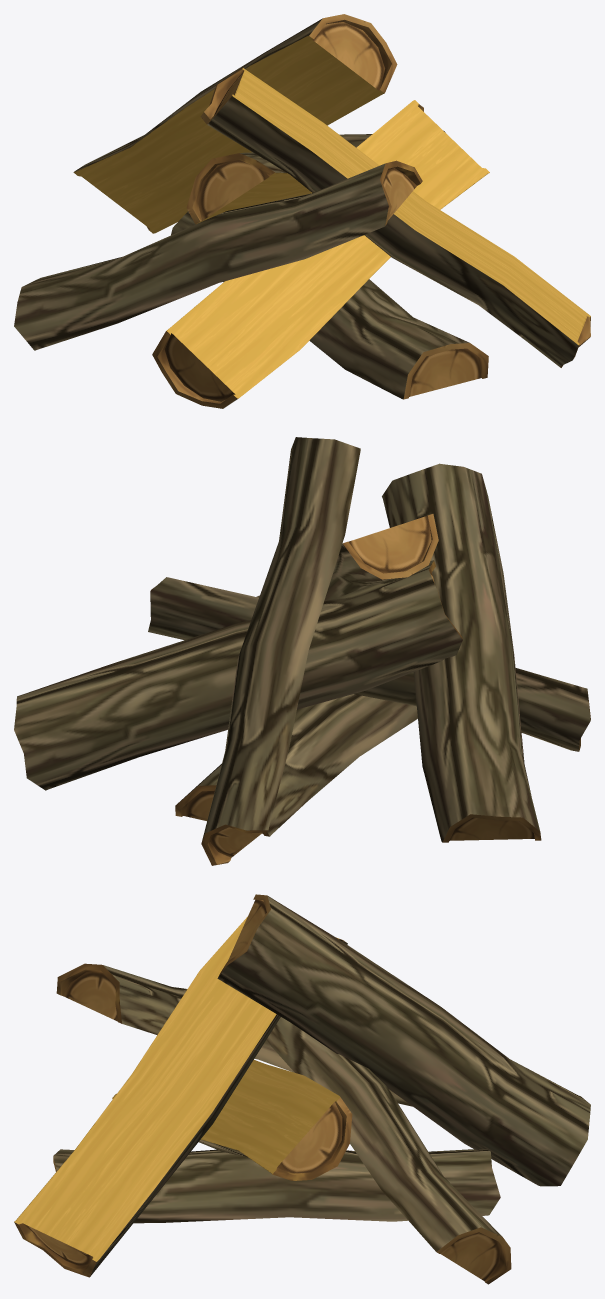
Rendered from Campfire05.fbx.
3 renders of one model, top to bottom at view 1: azimuth 30°, elevation 25°; view 2: azimuth 150°, elevation 25°; view 3: azimuth 270°, elevation 25°, orthographic. The views are drawn at different scales.
Visible parts, largest first — view 1: Campfire05_LOD0; view 2: Campfire05_LOD0; view 3: Campfire05_LOD0.
Boxes of the visible parts, x1=… form: Campfire05_LOD0: x1=14, y1=14, x2=590, y2=408; Campfire05_LOD0: x1=14, y1=437, x2=590, y2=865; Campfire05_LOD0: x1=14, y1=894, x2=590, y2=1284.
Size of what is drawn, in the model's own units: 54.56 by 33.73 by 57.41.
